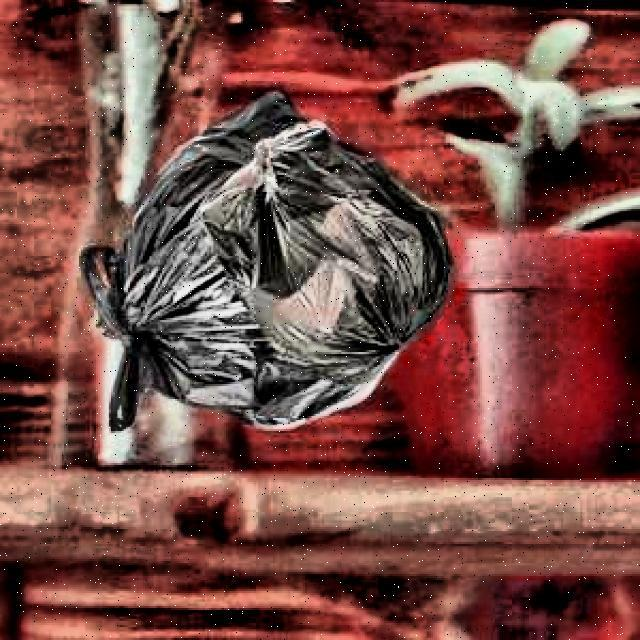Trashbag: (68, 86, 456, 444)
